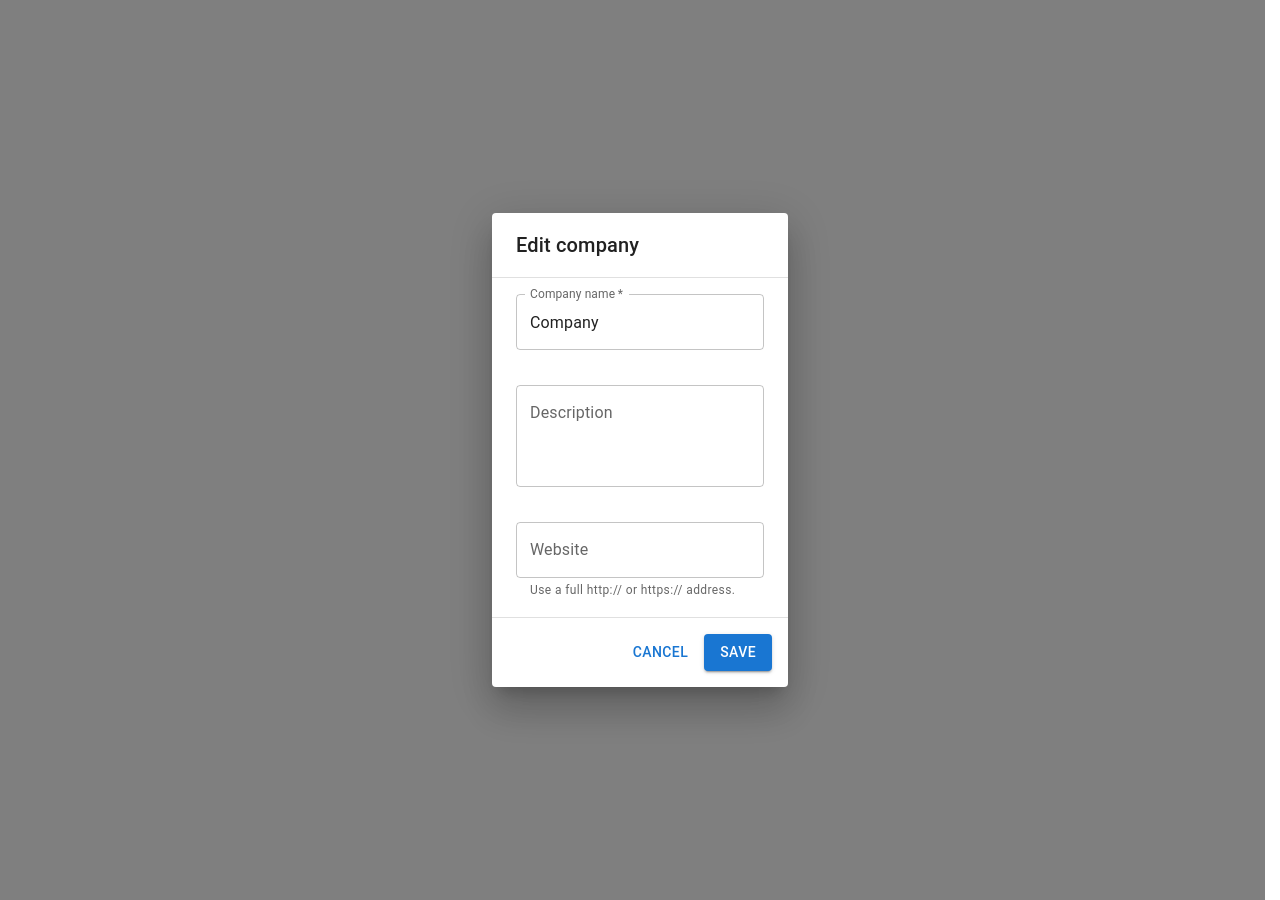
Test: shows server field errors next to their input without discarding the draft
This screenshot has width=1280, height=900.
Click the button "Save" at x=738, y=652, box [704, 634, 772, 671]
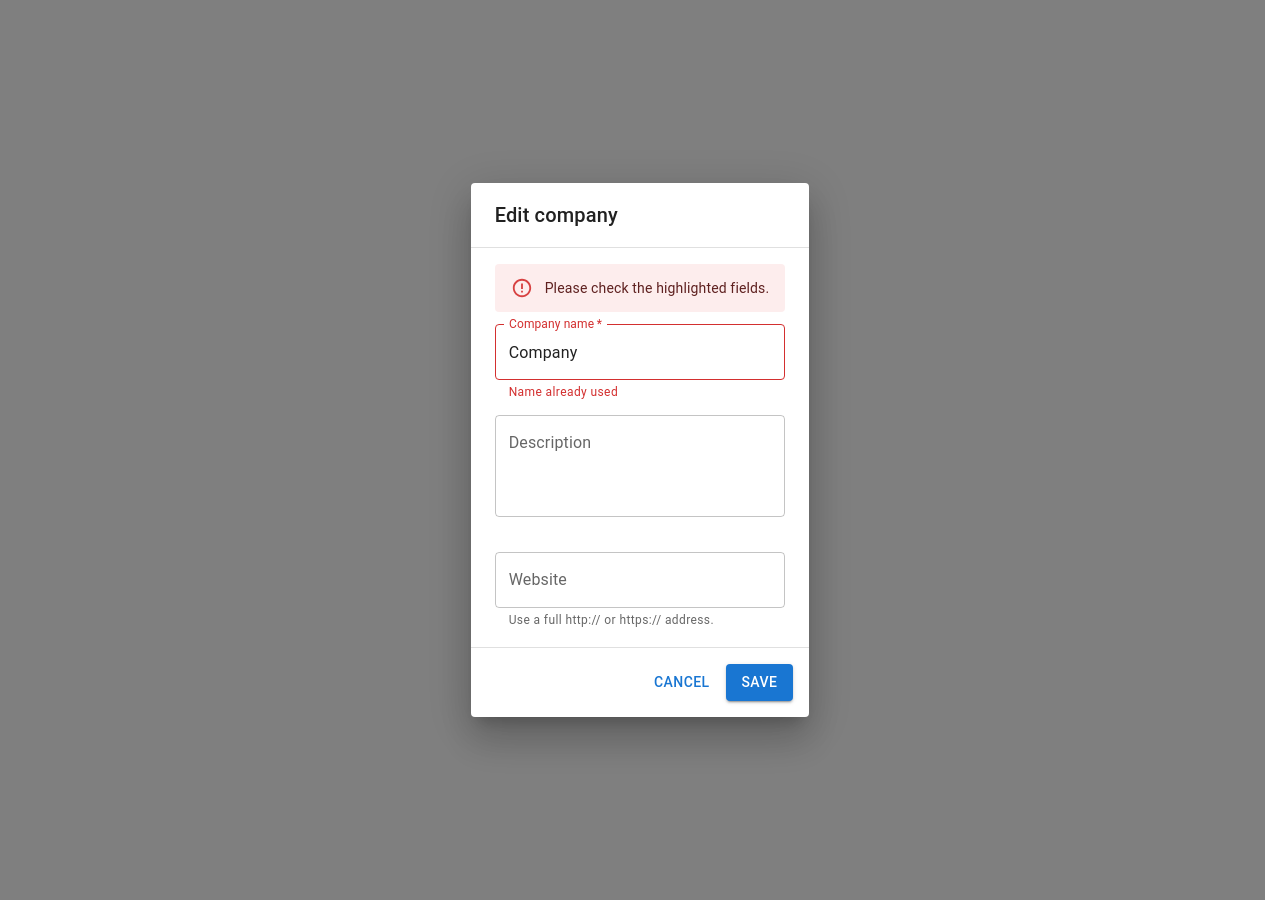
expect the field labelled "Company name *" holds "Company": met, box [495, 324, 785, 380]
expect the text "Name already used" is shown: met, box [509, 385, 618, 399]
